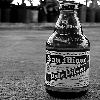beer: (42, 2, 90, 95)
